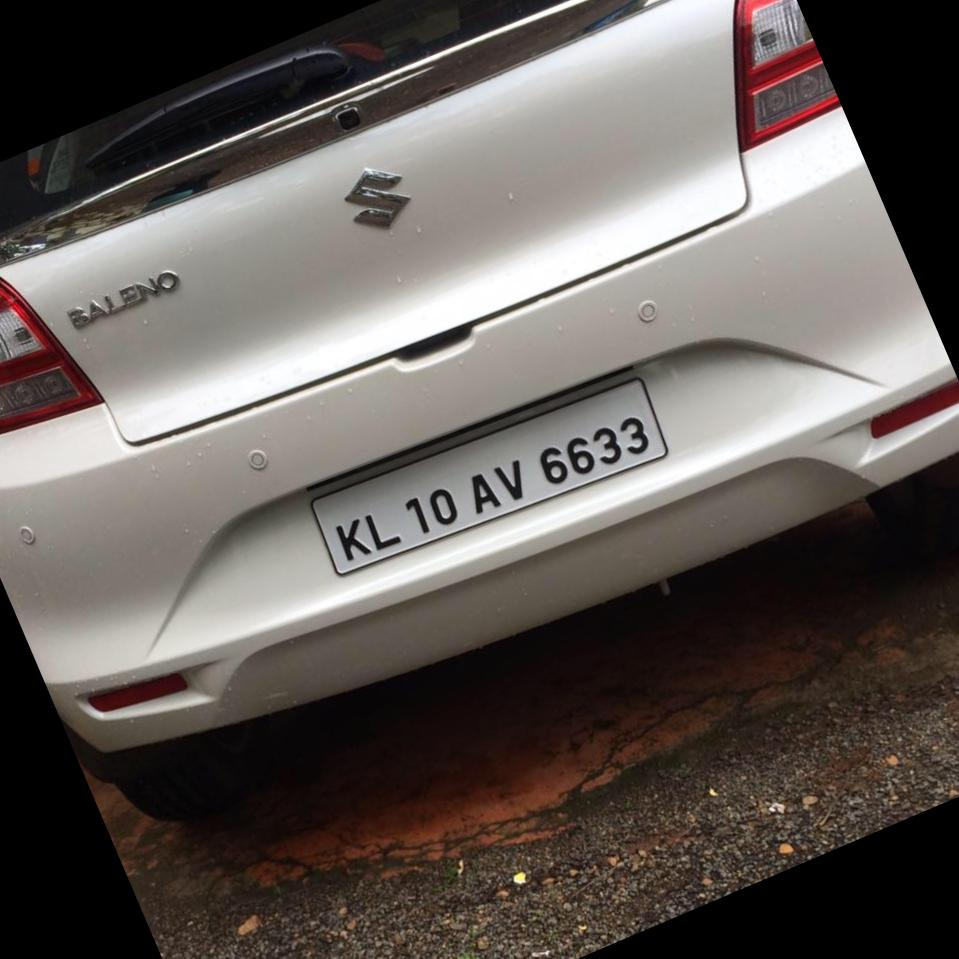plate: (293, 349, 677, 598)
